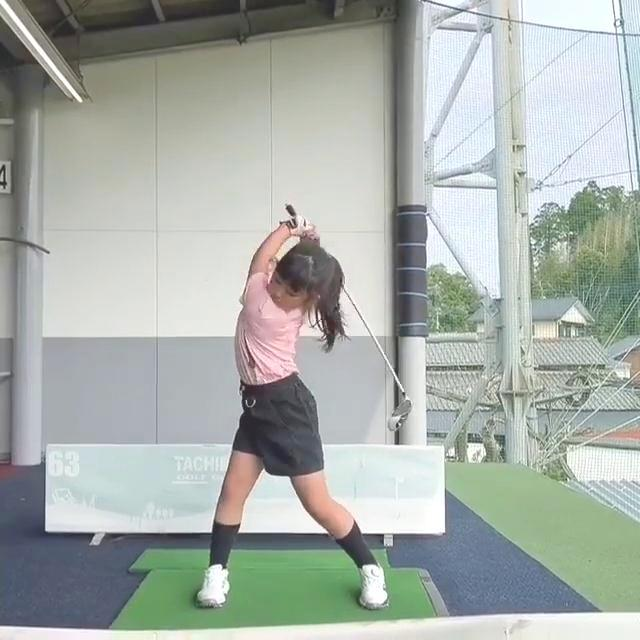ClubHandle: (285, 204, 411, 431)
ClubHead: (388, 400, 412, 432)
